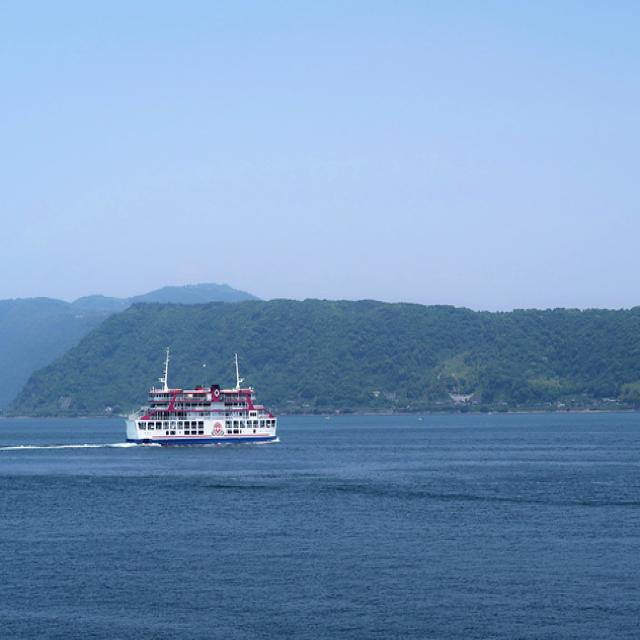houseboat: (120, 364, 284, 452)
